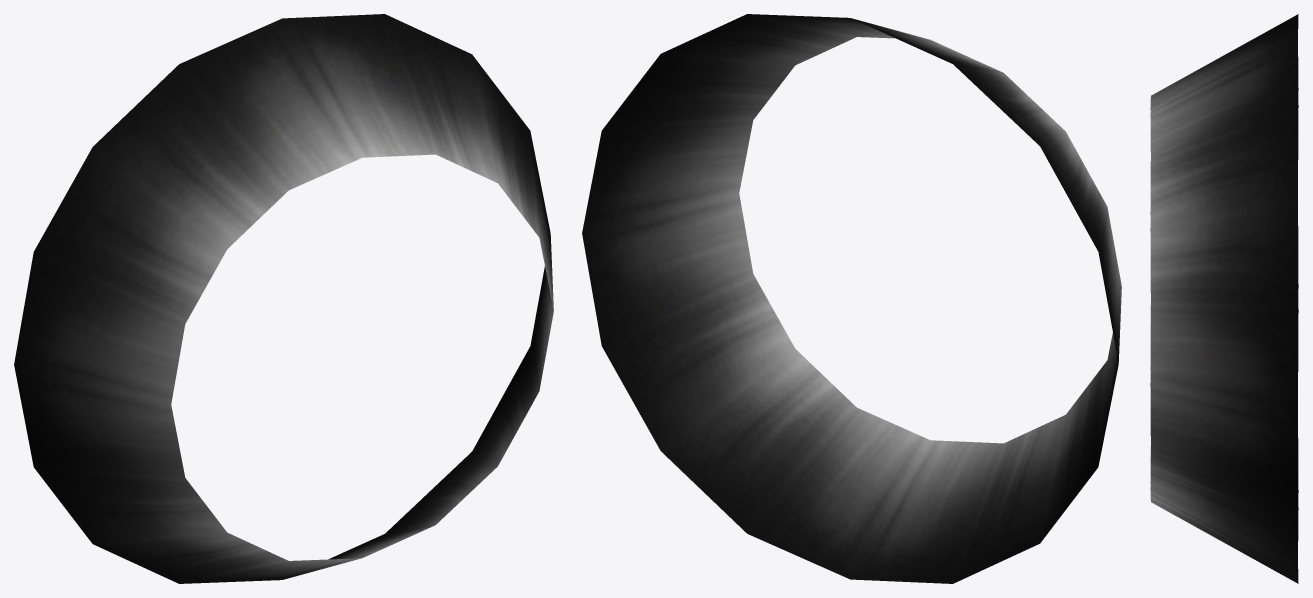
The model's file is linghunchangmao003.fbx.
3 renders of one model, left to right at view 1: azimuth 30°, elevation 25°; view 2: azimuth 150°, elevation 25°; view 3: azimuth 270°, elevation 25°, orthographic. The views are drawn at different scales.
Parts seen in each view (by area): view 1: linghunchangmao003; view 2: linghunchangmao003; view 3: linghunchangmao003.
Boxes of the visible parts, left/top/right/bottom form: linghunchangmao003: left=14, top=14, right=553, bottom=583; linghunchangmao003: left=582, top=14, right=1121, bottom=583; linghunchangmao003: left=1150, top=14, right=1298, bottom=583.
Bounding box in the file's own units: 180 × 180 × 46.91.
